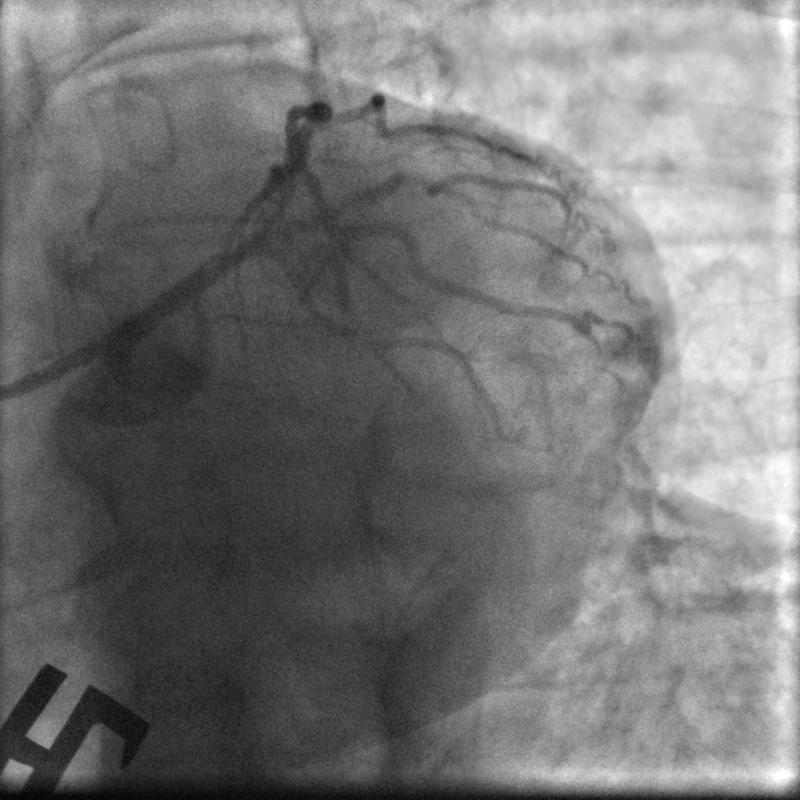Stenosis: (394, 168, 436, 199)
